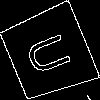U: (23, 27, 82, 79)
